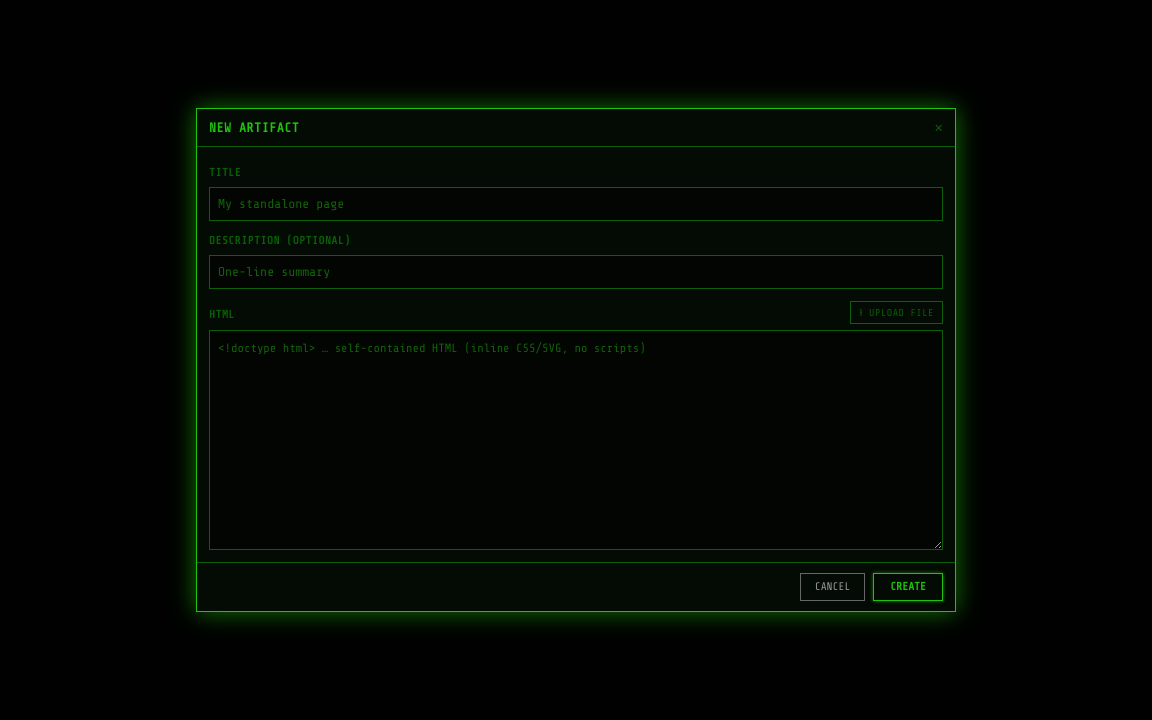
Test: CreateArtifactForm (adj-j7az6.3.4) › blocks submit and shows a validation message when HTML is empty
Type "Has Title" into the field labelled "TITLE". click: [576, 204]
box: x1=209 y1=187 x2=943 y2=221
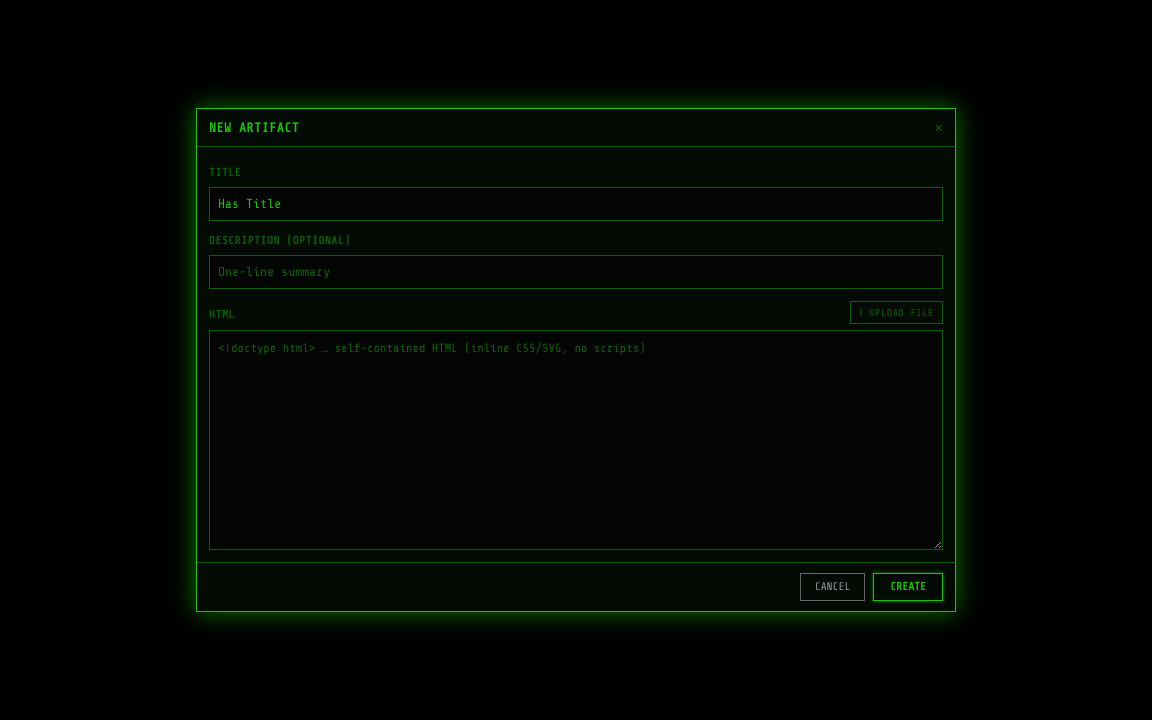
Click the button "CREATE". click: [908, 587]
box: x1=873 y1=573 x2=943 y2=601
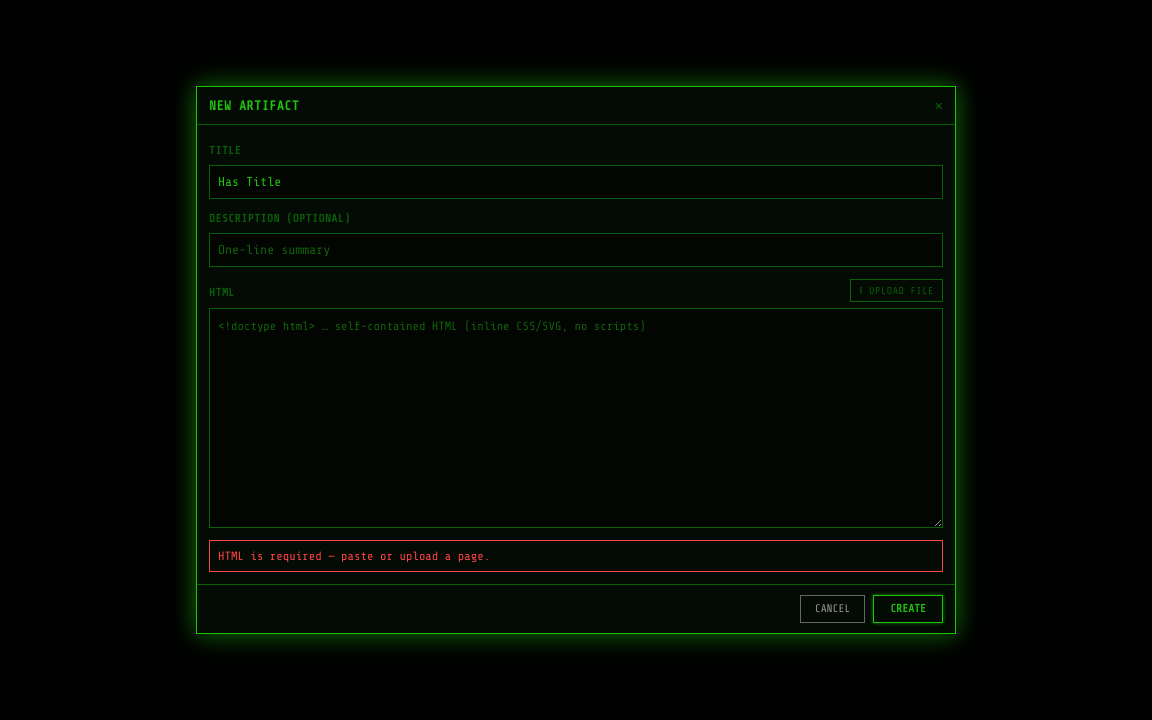
Expected: the text "HTML is required — paste or upload a page." is shown, x1=209 y1=540 x2=943 y2=572
